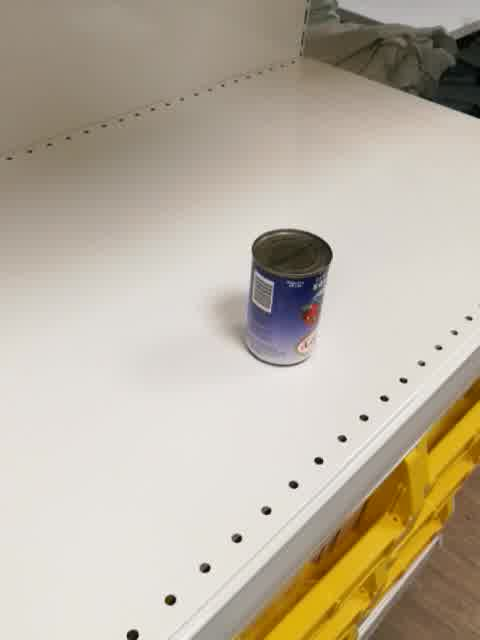sardine: (244, 228, 333, 370)
